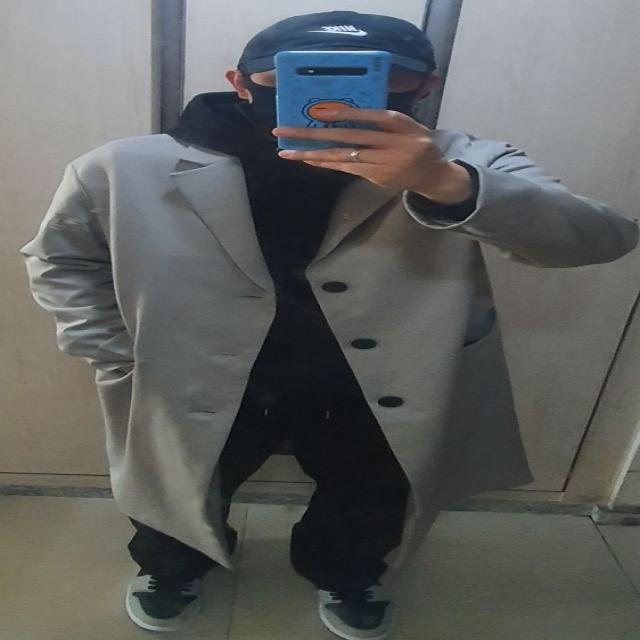coat: (23, 131, 640, 574)
cottonpants: (128, 314, 410, 596)
